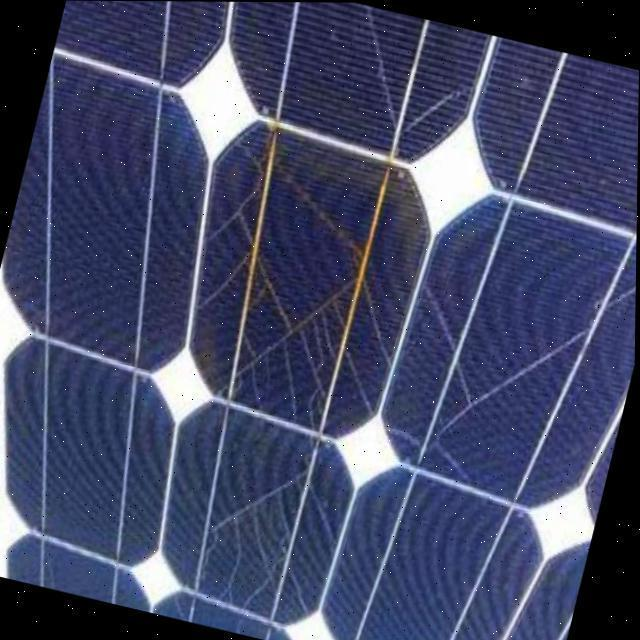Anomaly Solar Panel: (0, 0, 639, 640)
Structural Damage: (379, 285, 589, 500), (175, 466, 352, 624), (221, 251, 362, 431), (184, 140, 274, 253), (356, 2, 400, 131), (399, 80, 467, 135), (196, 250, 254, 312), (250, 253, 293, 332), (355, 277, 391, 367), (342, 352, 374, 418), (238, 577, 271, 613), (288, 572, 311, 615), (602, 284, 637, 308), (235, 212, 255, 247)
